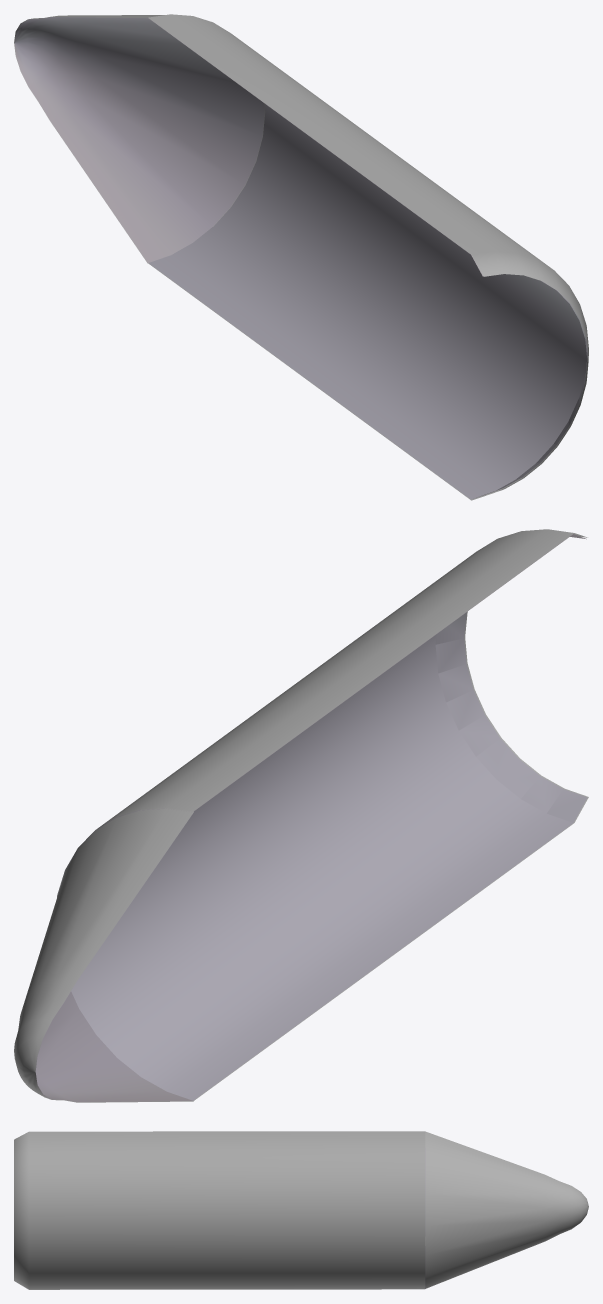
The model's file is fairing402b.obj.
3 views of the same model, one above another, from view 1: azimuth 30°, elevation 25°; view 2: azimuth 150°, elevation 25°; view 3: azimuth 270°, elevation 25° (orthographic). The views are drawn at different scales.
Parts seen in each view (by area): view 1: group0, group1; view 2: group0, group1; view 3: group1.
Boxes of the visible parts, bbox=[...] form: group0: bbox=[14, 17, 587, 499]; group1: bbox=[14, 14, 588, 500]; group0: bbox=[35, 534, 587, 1102]; group1: bbox=[14, 529, 588, 1102]; group1: bbox=[14, 1131, 588, 1289].
Bounding box in the file's own units: 1.75 × 3.5 × 12.08.
Materials: 2 (1 with a texture image).
